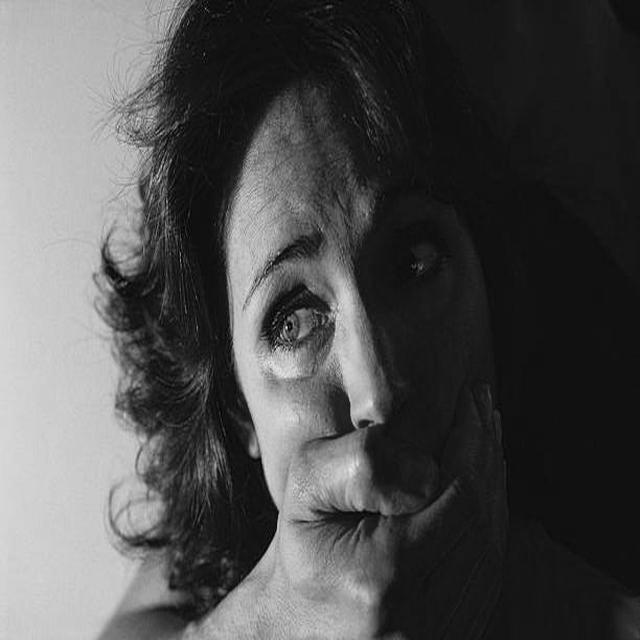Happiness: (221, 93, 491, 521)
